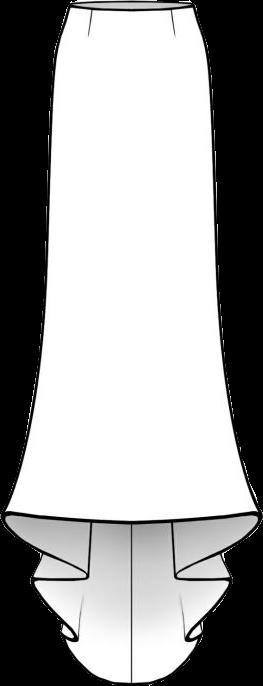Hemline: (0, 506, 260, 524)
Waistline: (67, 0, 193, 19)
